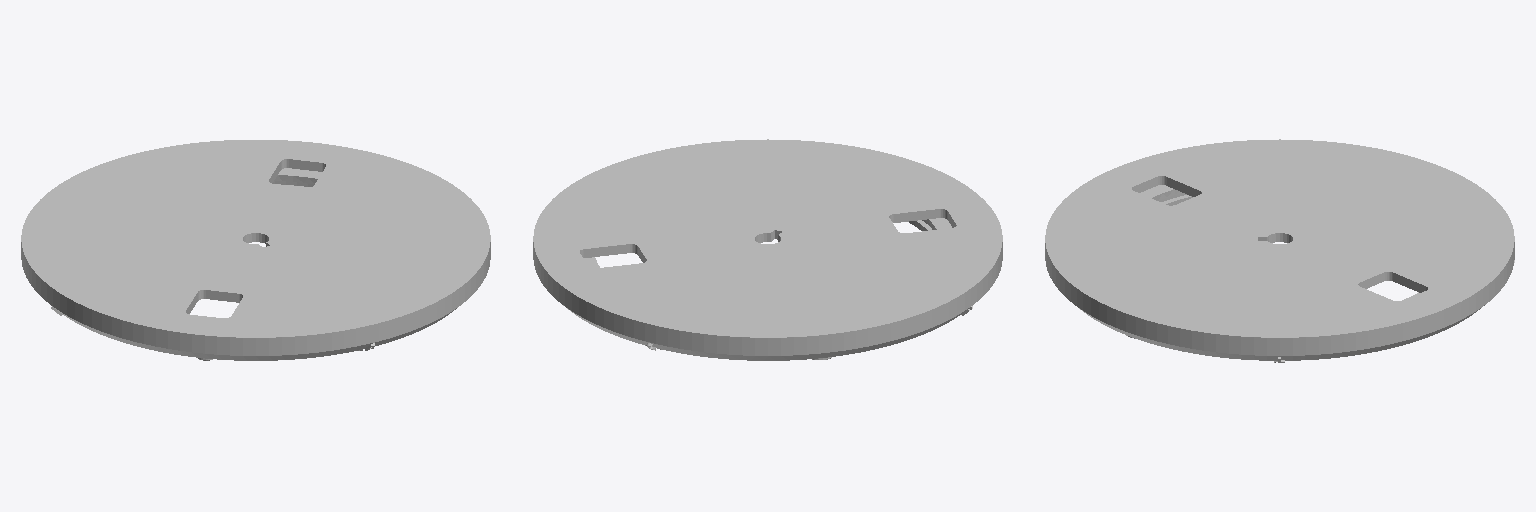
Rendered from BasePlate.obj.
3 views of the same model, side by side, from view 1: azimuth 30°, elevation 25°; view 2: azimuth 150°, elevation 25°; view 3: azimuth 270°, elevation 25° (orthographic).
Size of the model in its own units: 70.05 by 5.7 by 70.18.